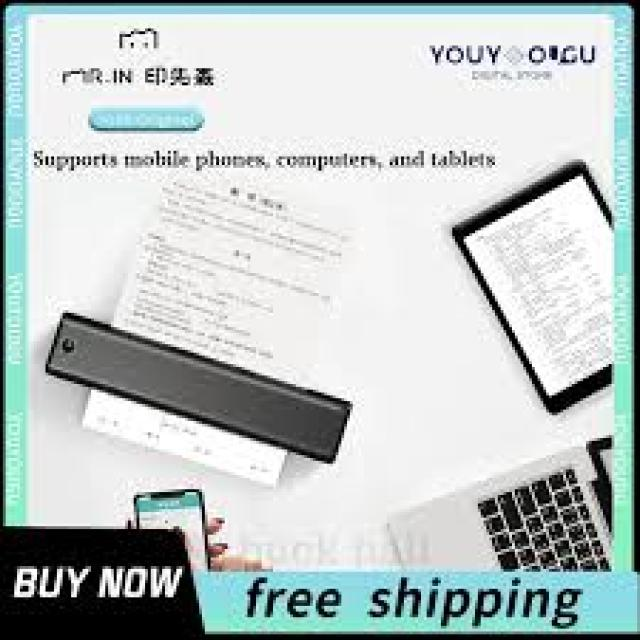printer: (42, 310, 352, 486)
